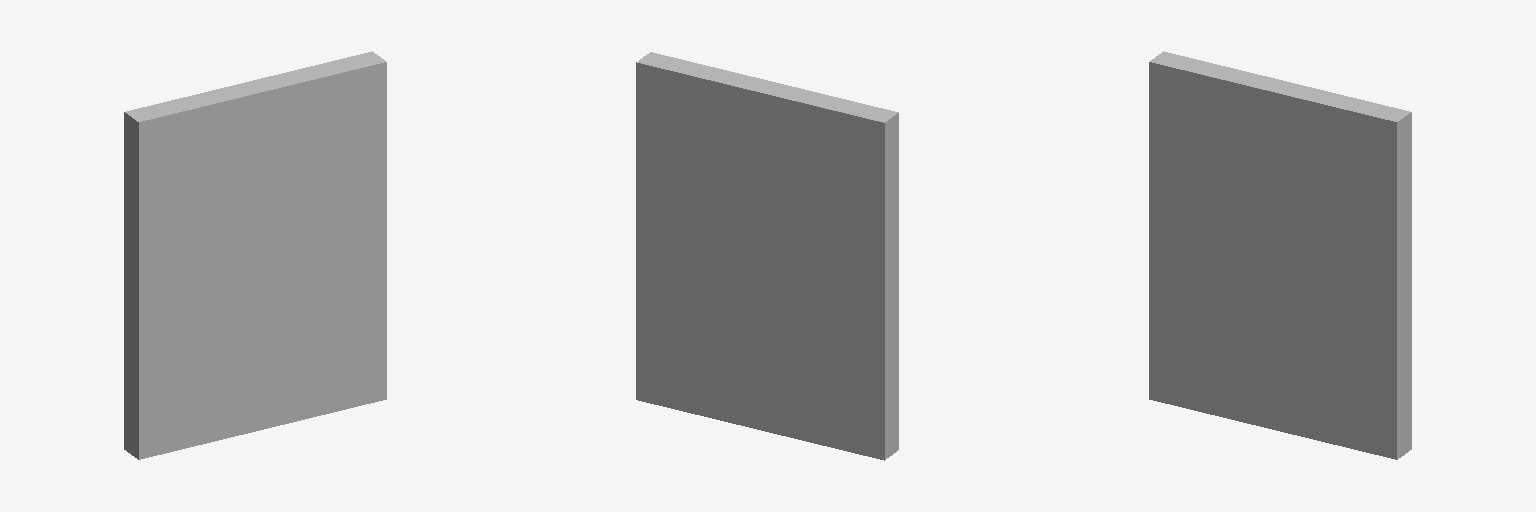
File: polaroid4.obj
3 renders of one model, left to right at view 1: azimuth 30°, elevation 25°; view 2: azimuth 150°, elevation 25°; view 3: azimuth 330°, elevation 25°, orthographic.
Parts seen in each view (by area): view 1: Plane, Cube, Text; view 2: Cube; view 3: Plane, Cube, Text.
Boxes of the visible parts, x1,y1,x2,y2 form: Plane: [152, 78, 375, 365]; Cube: [124, 51, 386, 459]; Text: [210, 356, 314, 419]; Cube: [636, 52, 898, 460]; Plane: [1161, 78, 1383, 365]; Cube: [1149, 51, 1411, 459]; Text: [1220, 345, 1324, 431].
Bounding box in the file's own units: 2 × 2.6 × 0.2107.